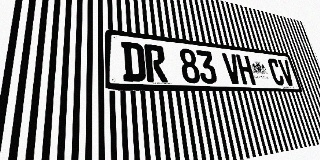3: (196, 50, 218, 84)
8: (178, 48, 201, 83)
C: (267, 58, 285, 86)
D: (121, 41, 146, 82)
H: (235, 54, 256, 85)
R: (144, 44, 168, 83)
V: (222, 53, 243, 84), (277, 59, 296, 86)
